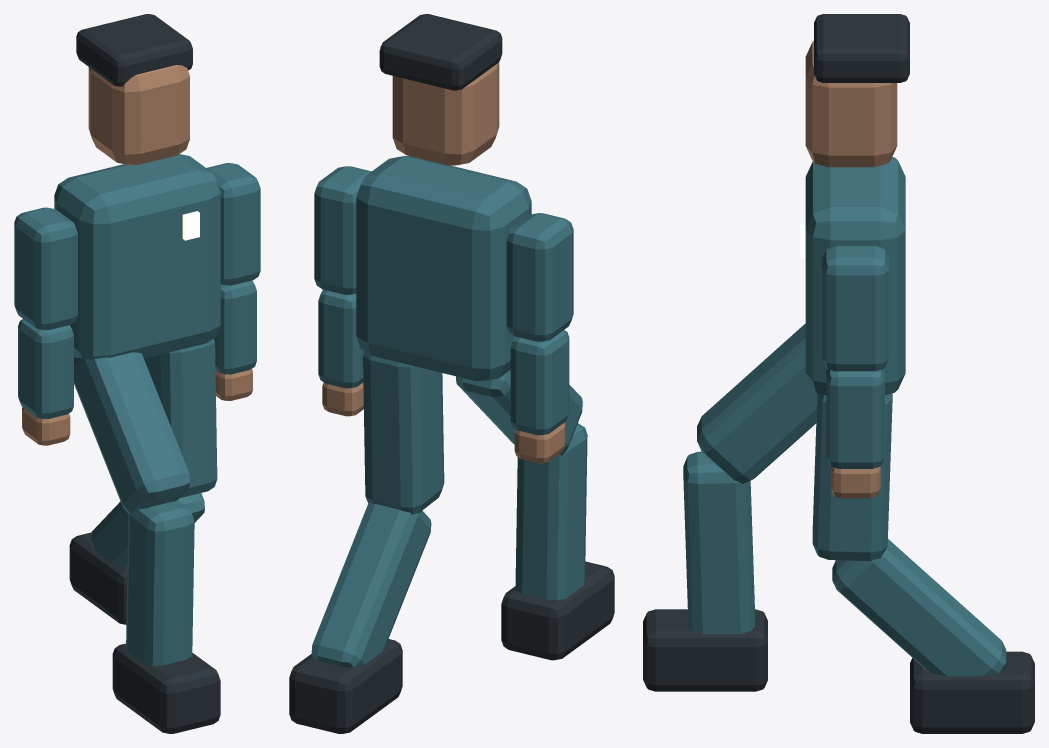
The model's file is citizen.glb.
3 renders of one model, left to right at view 1: azimuth 30°, elevation 25°; view 2: azimuth 150°, elevation 25°; view 3: azimuth 270°, elevation 25°, orthographic. The views are drawn at different scales.
Parts seen in each view (by area): view 1: torso, leg_l, shin_l, head, upper_arm_l, leg_r, shoe_l, hair, forearm_l, upper_arm_r, forearm_r, shoe_r (+4 smaller); view 2: torso, leg_r, shin_r, shin_l, head, upper_arm_l, shoe_r, shoe_l, hair, forearm_l, upper_arm_r, forearm_r (+3 smaller); view 3: torso, shin_r, shin_l, leg_l, shoe_l, upper_arm_r, shoe_r, head, leg_r, hair, forearm_r, hand_r.
Part boxes in pixels (x1,y1,x2,y2): torso: [54, 154, 220, 359]; leg_l: [74, 352, 189, 514]; shin_l: [126, 500, 194, 665]; head: [88, 65, 189, 165]; upper_arm_l: [14, 207, 77, 330]; leg_r: [144, 339, 217, 497]; shoe_l: [112, 643, 220, 733]; hair: [76, 14, 192, 86]; forearm_l: [18, 319, 73, 418]; upper_arm_r: [206, 163, 260, 285]; forearm_r: [214, 280, 256, 374]; shoe_r: [69, 532, 127, 624]; torso: [356, 156, 531, 381]; leg_r: [363, 351, 444, 514]; shin_r: [311, 502, 431, 667]; shin_l: [515, 423, 587, 600]; head: [392, 62, 499, 165]; upper_arm_l: [506, 213, 573, 341]; shoe_r: [289, 639, 402, 733]; shoe_l: [501, 561, 614, 660]; hair: [379, 14, 502, 90]; forearm_l: [510, 330, 569, 435]; upper_arm_r: [314, 166, 371, 294]; forearm_r: [318, 289, 364, 388]; torso: [805, 157, 905, 395]; shin_r: [832, 539, 1006, 676]; shin_l: [683, 451, 754, 634]; leg_l: [697, 323, 817, 483]; shoe_l: [643, 609, 767, 691]; upper_arm_r: [822, 245, 888, 371]; shoe_r: [910, 651, 1034, 733]; head: [805, 41, 897, 167]; leg_r: [812, 393, 892, 560]; hair: [814, 14, 909, 82]; forearm_r: [826, 369, 884, 468]; hand_r: [830, 466, 880, 498].
Bounding box in the file's own units: 0.682 × 1.78 × 0.94.
